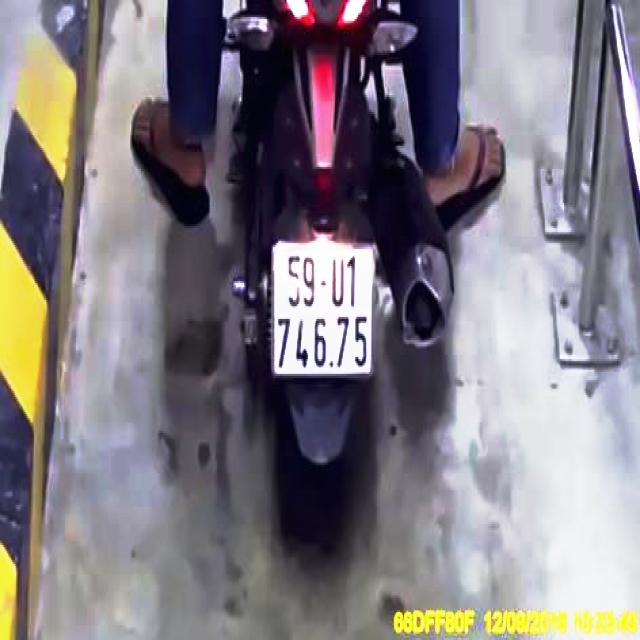license_plate: (276, 241, 372, 374)
